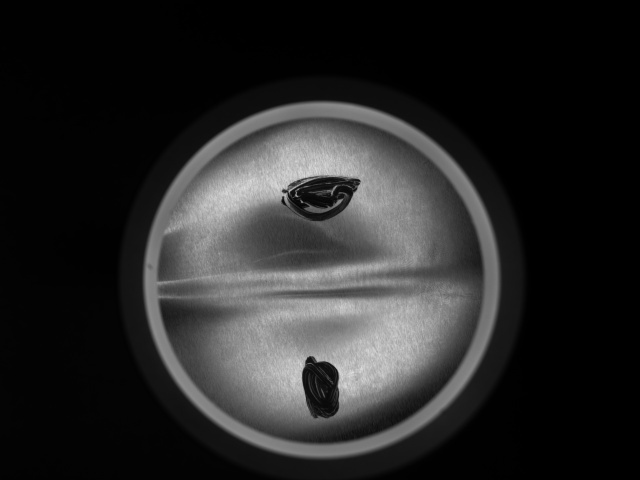zang_wu: (279, 174, 365, 225), (302, 355, 343, 419)
zhe_zhou: (206, 145, 439, 414)
